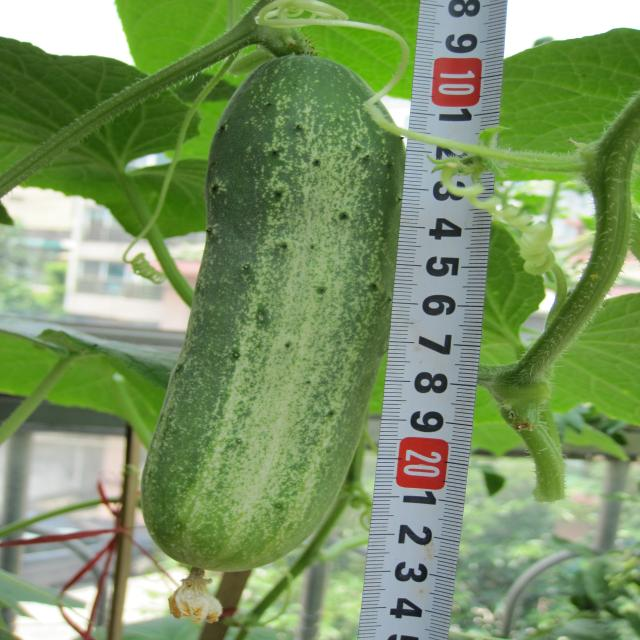cucumber: (142, 48, 404, 572)
